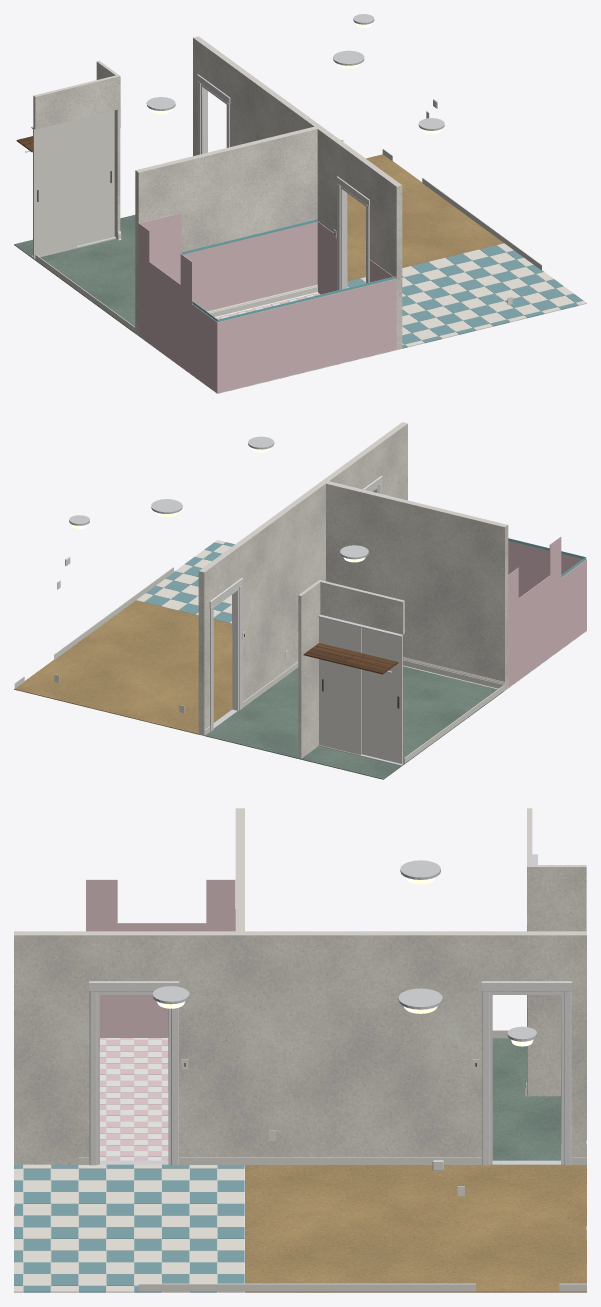
The model's file is unit_shell.glb.
3 views of the same model, one above another, from view 1: azimuth 30°, elevation 25°; view 2: azimuth 150°, elevation 25°; view 3: azimuth 270°, elevation 25° (orthographic). The views are drawn at different scales.
Visible parts, largest first — view 1: unit_shell_plaster, unit_shell_tile_p, unit_shell_door_int, unit_shell_carpet, unit_shell_vinyl_k, unit_shell_vinyl_f, unit_shell_carpet_b, unit_shell_frame, unit_shell_trim, unit_shell_metal, unit_shell_accent2, molduras; view 2: unit_shell_plaster, unit_shell_carpet, unit_shell_carpet_b, unit_shell_door_int, unit_shell_tile_p, unit_shell_frame, unit_shell_trim, unit_shell_vinyl_k, unit_shell_vinyl_f, unit_shell_dkwood, unit_shell_metal, molduras (+1 smaller); view 3: unit_shell_plaster, unit_shell_carpet, unit_shell_vinyl_f, unit_shell_vinyl_k, unit_shell_tile_p, unit_shell_frame, unit_shell_carpet_b, unit_shell_trim, unit_shell_tile_w, unit_shell_metal, unit_shell_grout, unit_shell_alu.
Boxes of the visible parts, x1=… form: unit_shell_plaster: x1=33, y1=36, x2=402, y2=349; unit_shell_tile_p: x1=138, y1=213, x2=396, y2=393; unit_shell_door_int: x1=33, y1=110, x2=114, y2=257; unit_shell_carpet: x1=347, y1=154, x2=503, y2=281; unit_shell_vinyl_k: x1=347, y1=245, x2=583, y2=348; unit_shell_vinyl_f: x1=347, y1=243, x2=586, y2=347; unit_shell_carpet_b: x1=14, y1=215, x2=135, y2=332; unit_shell_frame: x1=197, y1=74, x2=369, y2=290; unit_shell_trim: x1=35, y1=149, x2=542, y2=332; unit_shell_metal: x1=146, y1=14, x2=444, y2=130; unit_shell_accent2: x1=181, y1=219, x2=395, y2=321; molduras: x1=117, y1=231, x2=317, y2=336; unit_shell_plaster: x1=198, y1=422, x2=508, y2=758; unit_shell_carpet: x1=14, y1=600, x2=232, y2=734; unit_shell_carpet_b: x1=204, y1=666, x2=503, y2=779; unit_shell_door_int: x1=319, y1=617, x2=402, y2=763; unit_shell_tile_p: x1=508, y1=536, x2=586, y2=687; unit_shell_frame: x1=209, y1=476, x2=382, y2=731; unit_shell_trim: x1=14, y1=567, x2=504, y2=762; unit_shell_vinyl_k: x1=144, y1=542, x2=234, y2=622; unit_shell_vinyl_f: x1=136, y1=540, x2=231, y2=623; unit_shell_dkwood: x1=244, y1=634, x2=398, y2=674; unit_shell_metal: x1=69, y1=436, x2=368, y2=559; molduras: x1=403, y1=657, x2=509, y2=691; unit_shell_plaster: x1=14, y1=808, x2=586, y2=1165; unit_shell_carpet: x1=245, y1=1164, x2=586, y2=1292; unit_shell_vinyl_f: x1=14, y1=1164, x2=244, y2=1292; unit_shell_vinyl_k: x1=14, y1=1164, x2=244, y2=1292; unit_shell_tile_p: x1=86, y1=879, x2=235, y2=1160; unit_shell_frame: x1=89, y1=981, x2=572, y2=1165; unit_shell_carpet_b: x1=492, y1=1038, x2=560, y2=1160; unit_shell_trim: x1=78, y1=1030, x2=586, y2=1291; unit_shell_tile_w: x1=100, y1=1038, x2=168, y2=1160; unit_shell_metal: x1=152, y1=860, x2=536, y2=1041; unit_shell_grout: x1=23, y1=1038, x2=217, y2=1292; unit_shell_alu: x1=100, y1=854, x2=560, y2=1164.
Size of the model in its own units: 6.5 by 2.75 by 6.2.
Materials: 19 (4 with a texture image).
